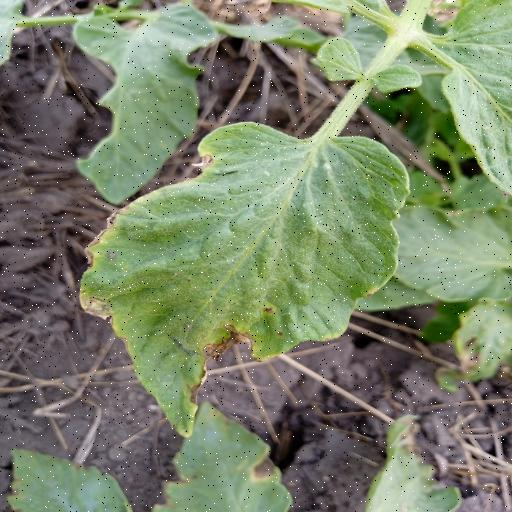Tomato_Mildiou: (68, 117, 437, 438)
